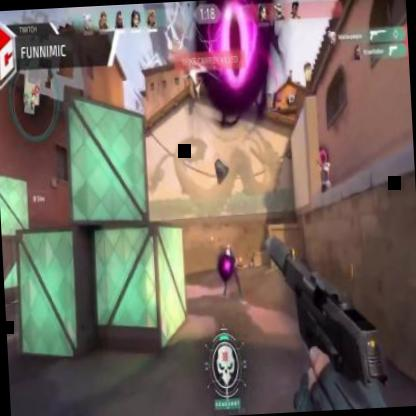enemy: (316, 148, 332, 198)
enemy_head: (319, 150, 326, 166)
